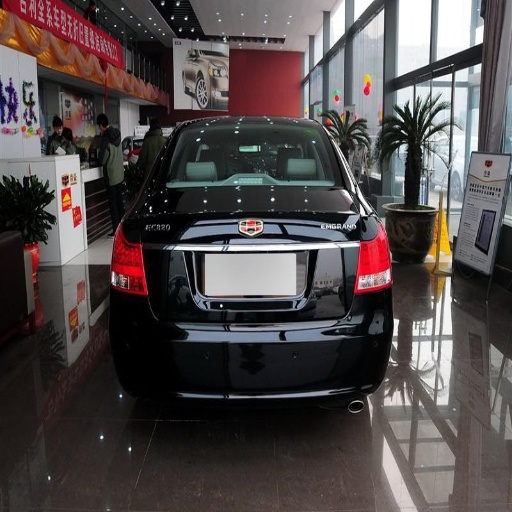back_bumper: (112, 283, 391, 414)
tailgate: (188, 188, 359, 326), (126, 188, 191, 294)
